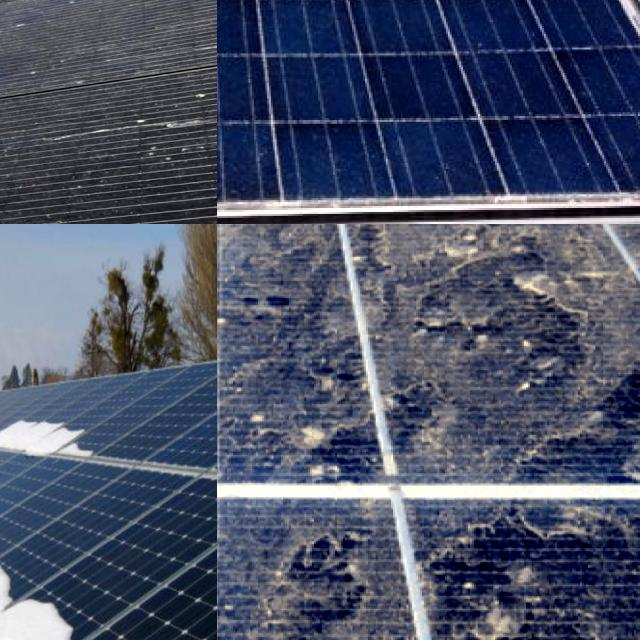bird: (106, 95, 195, 176), (0, 118, 66, 177), (0, 193, 60, 224), (0, 0, 34, 47)
dust: (330, 224, 571, 480), (426, 500, 640, 640), (217, 501, 408, 640), (217, 224, 309, 477), (217, 224, 501, 252)
hotspot: (346, 0, 458, 43), (217, 0, 280, 49)
panel: (2, 411, 104, 494), (0, 478, 53, 595), (11, 589, 79, 640), (0, 459, 30, 547), (0, 427, 34, 473), (0, 546, 22, 611), (0, 406, 29, 451), (0, 514, 22, 570), (0, 405, 28, 448), (0, 422, 24, 472)
